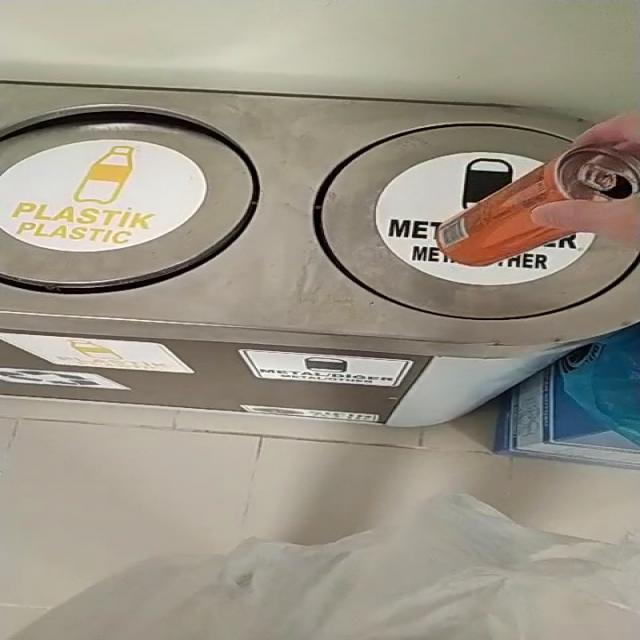Bin: (0, 83, 639, 426)
Metal: (437, 146, 640, 266)
